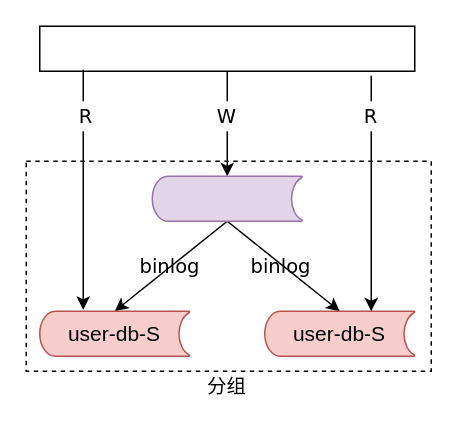
Some shapes in this 458 by 428 pixel diagram are drawn without their labels. Each missing label, with the centre of its shape:
"user-db-M" belongs at (x=226, y=198).
"user-service" belongs at (x=226, y=48).
